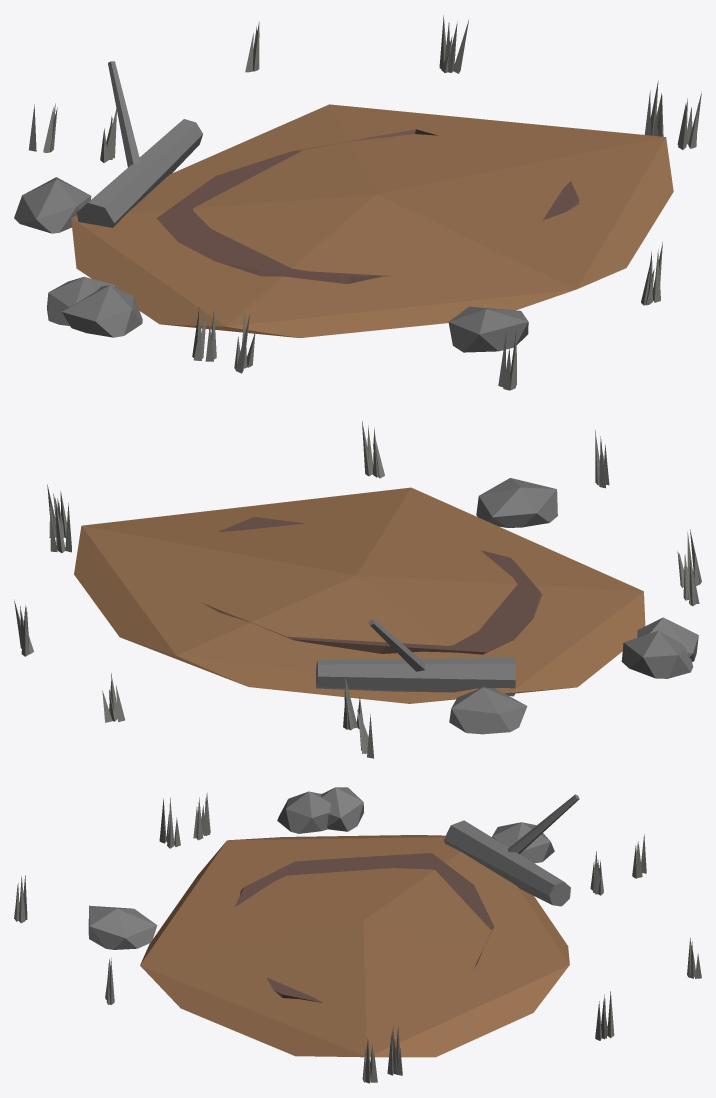
The model's file is lair-wallow-big.glb.
3 views of the same model, one above another, from view 1: azimuth 30°, elevation 25°; view 2: azimuth 150°, elevation 25°; view 3: azimuth 270°, elevation 25° (orthographic). The views are drawn at different scales.
Parts seen in each view (by area): view 1: lair-wallow-big; view 2: lair-wallow-big; view 3: lair-wallow-big.
Boxes of the visible parts, <box> form: lair-wallow-big: <box>14,15,701,390</box>; lair-wallow-big: <box>14,421,701,758</box>; lair-wallow-big: <box>14,787,701,1083</box>.
Bounding box in the file's own units: 7.91 × 1.23 × 8.15.
